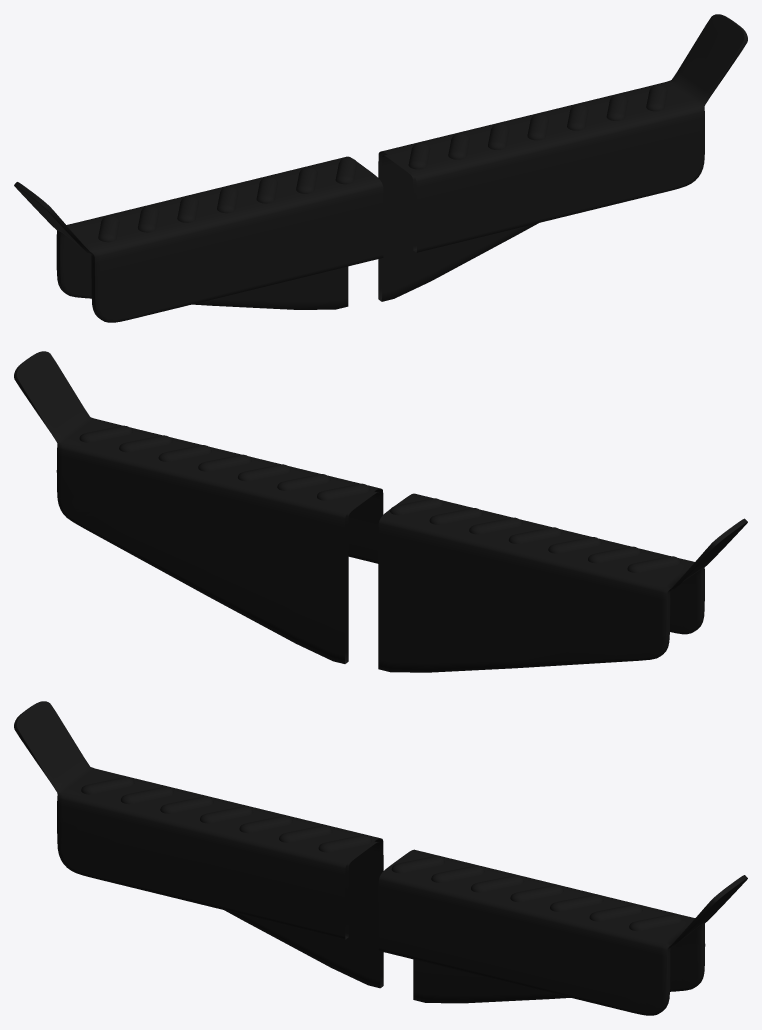
Rendered from Rag.glb.
3 renders of one model, top to bottom at view 1: azimuth 30°, elevation 25°; view 2: azimuth 150°, elevation 25°; view 3: azimuth 330°, elevation 25°, orthographic.
Parts seen in each view (by area): view 1: Asset 3.010, Asset 3.011; view 2: Asset 3.010, Asset 3.011; view 3: Asset 3.011, Asset 3.010.
Part boxes in pixels (bbox=[...]): Asset 3.010: bbox=[378, 14, 747, 301]; Asset 3.011: bbox=[14, 156, 383, 322]; Asset 3.010: bbox=[14, 351, 383, 663]; Asset 3.011: bbox=[378, 493, 747, 672]; Asset 3.011: bbox=[14, 701, 383, 988]; Asset 3.010: bbox=[378, 849, 747, 1015].
Size of the model in its own units: 1.05 by 0.3027 by 0.0994.
Materials: 1 (1 with a texture image).
